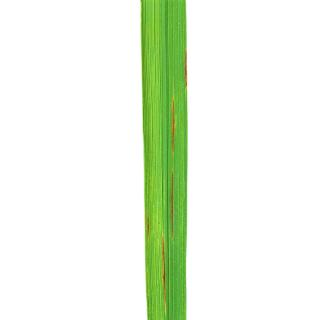Bercak-Cokelat-Sempit: (157, 235, 168, 312), (169, 95, 176, 156), (169, 167, 175, 235), (146, 213, 153, 238)
